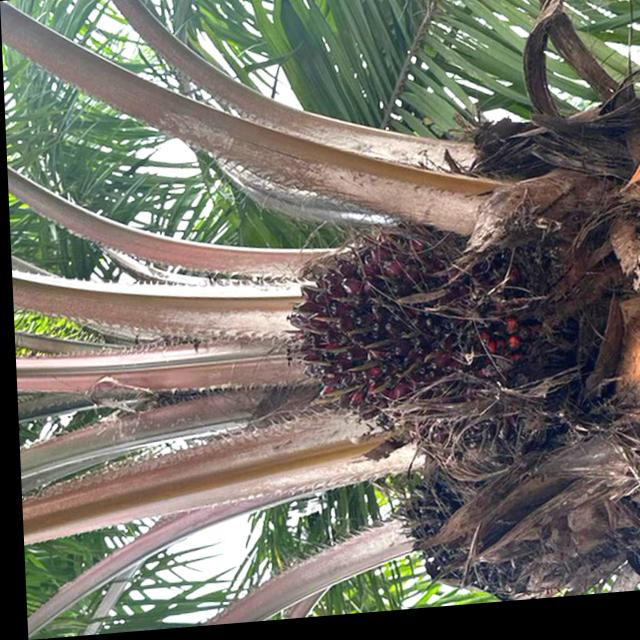ripe: (272, 203, 531, 446), (395, 407, 640, 611)
